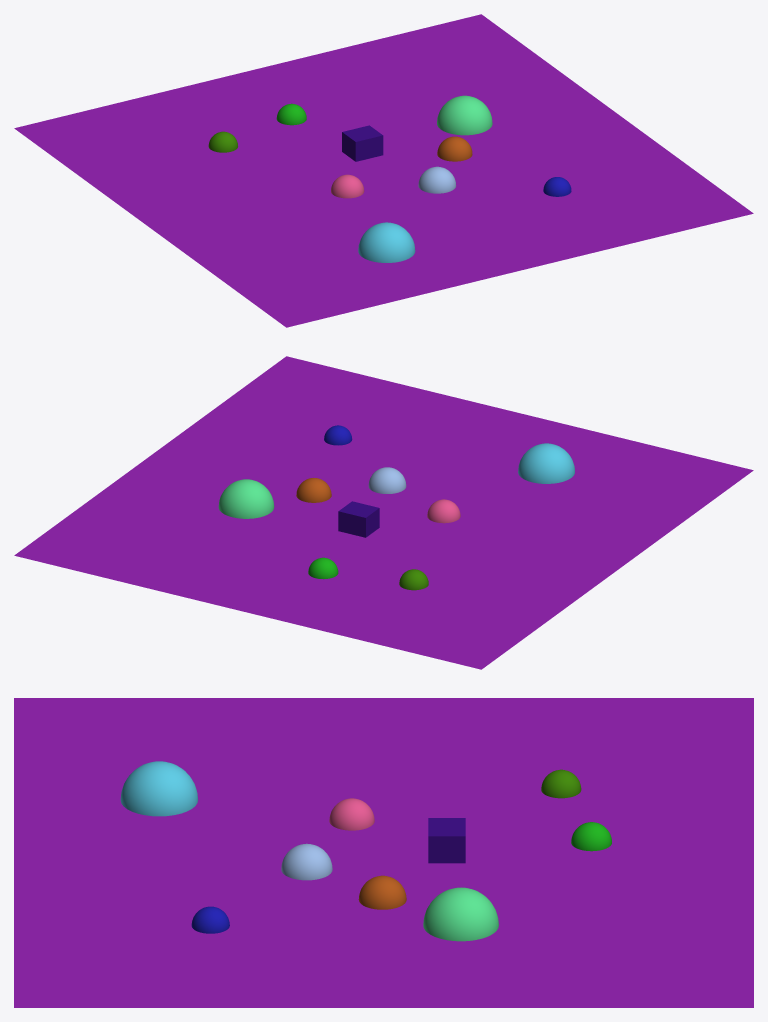
Rendered from simple_003_DirectionalLight_00.dae.
3 renders of one model, top to bottom at view 1: azimuth 30°, elevation 25°; view 2: azimuth 150°, elevation 25°; view 3: azimuth 270°, elevation 25°, orthographic. The views are drawn at different scales.
Parts seen in each view (by area): view 1: Plane01, Sphere04, Sphere07, Box01, Sphere01, Sphere02, Sphere03, Sphere06; view 2: Plane01, Sphere04, Sphere07, Box01, Sphere01, Sphere02, Sphere03, Sphere06; view 3: Plane01, Sphere04, Sphere07, Box01, Sphere01, Sphere02, Sphere03, Sphere06, Sphere05, Sphere08.
Part boxes in pixels (left/top/right/bottom): Plane01: left=14, top=14, right=753, bottom=327; Sphere04: left=358, top=222, right=415, bottom=262; Sphere07: left=437, top=95, right=492, bottom=135; Box01: left=342, top=125, right=383, bottom=161; Sphere01: left=418, top=166, right=456, bottom=193; Sphere02: left=437, top=136, right=472, bottom=161; Sphere03: left=331, top=174, right=364, bottom=198; Sphere06: left=276, top=103, right=306, bottom=125; Plane01: left=14, top=356, right=753, bottom=669; Sphere04: left=518, top=443, right=574, bottom=483; Sphere07: left=218, top=479, right=274, bottom=518; Box01: left=338, top=501, right=379, bottom=537; Sphere01: left=368, top=467, right=406, bottom=493; Sphere02: left=296, top=478, right=331, bottom=502; Sphere03: left=427, top=499, right=460, bottom=523; Sphere06: left=308, top=557, right=338, bottom=579; Plane01: left=14, top=698, right=753, bottom=1007; Sphere04: left=120, top=761, right=197, bottom=816; Sphere07: left=423, top=887, right=498, bottom=941; Box01: left=428, top=818, right=465, bottom=863; Sphere01: left=281, top=843, right=332, bottom=880; Sphere02: left=358, top=875, right=406, bottom=909; Sphere03: left=329, top=798, right=374, bottom=830; Sphere06: left=571, top=822, right=611, bottom=851; Sphere05: left=541, top=769, right=581, bottom=798; Sphere08: left=191, top=906, right=229, bottom=933.
Size of the model in its own units: 6706 by 6768 by 711.
